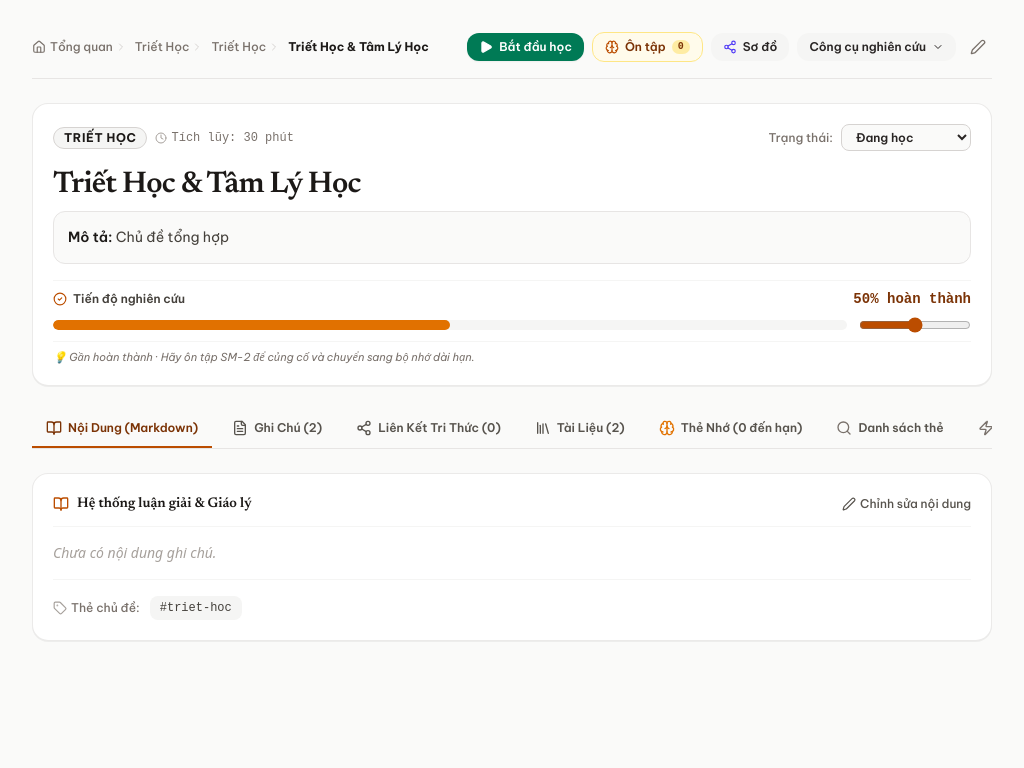
Test: Phase R3A.2: Note to Reader Deep-Link Wiring in Owners › 2. TopicDetail wiring › 2.1. clicking archive citation inside NoteReaderModal in TopicDetail opens UnifiedResearchReader with locator
The image size is (1024, 768).
Note: Switch to notes tab in TopicDetail
Click the button with test id "tab-btn-notes" at (277, 429), box x1=218 y1=410 x2=336 y2=448
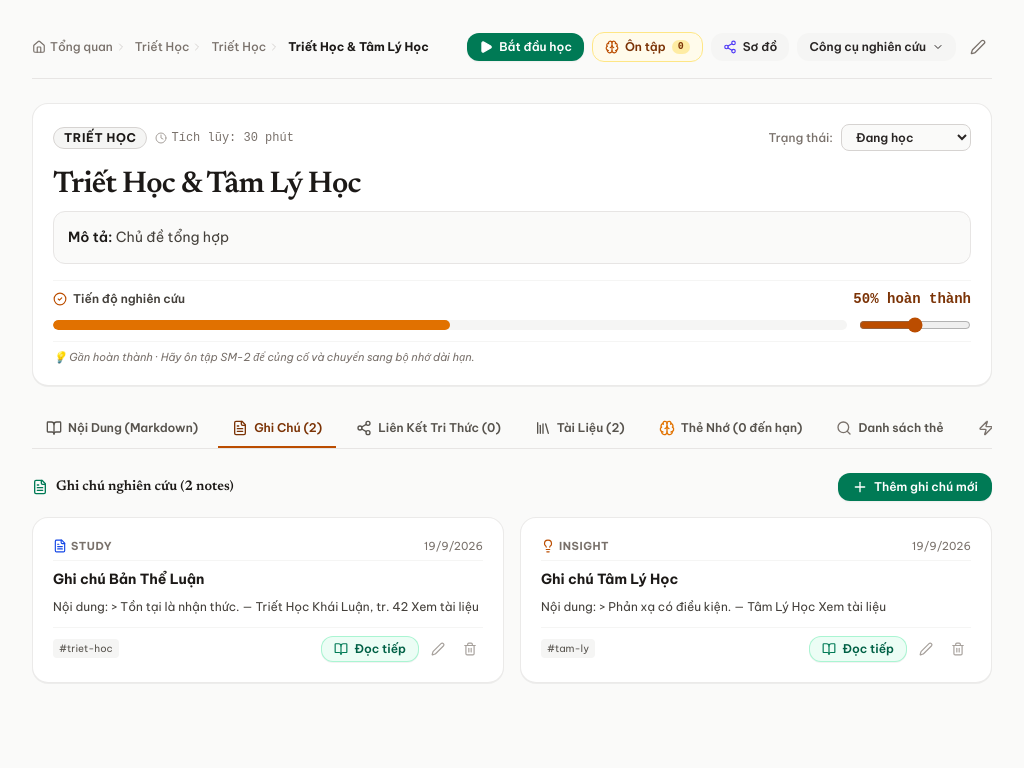
Note: Click "Đọc tiếp" on note 2
Click the button with aria-label "Đọc tiếp ghi chú Ghi chú Tâm Lý Học" at (858, 649), box x1=810 y1=636 x2=907 y2=662
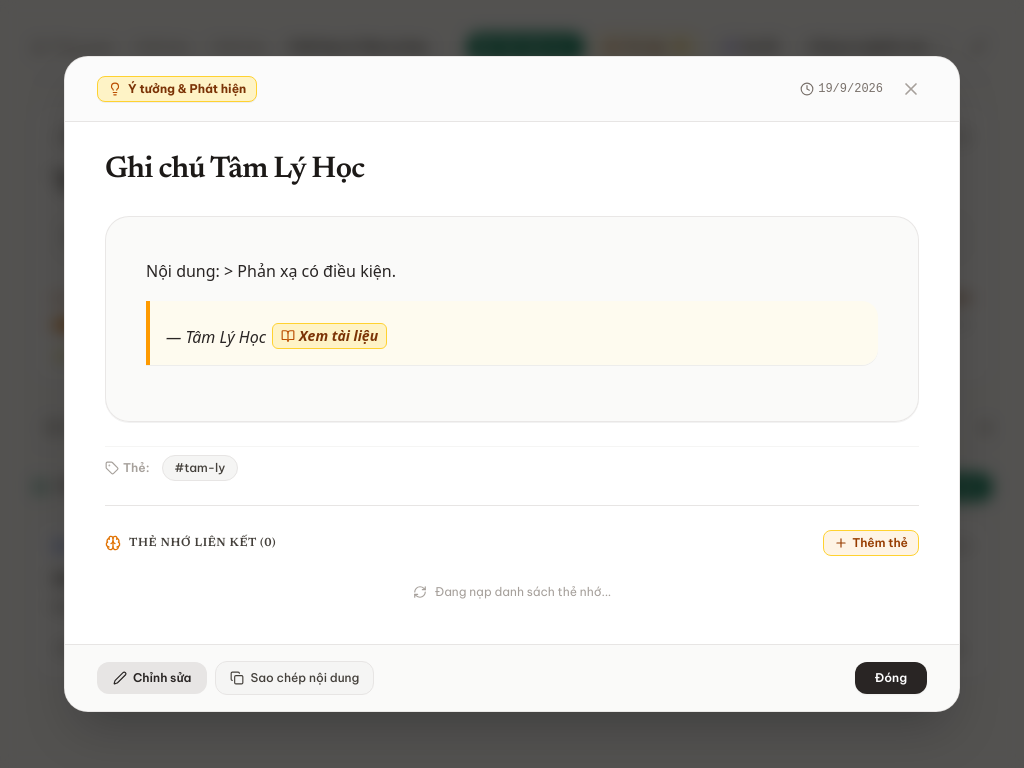
expect the dialog named "Chi tiết ghi chú" is shown: met
Note: Click the archive citation link
Click the link "Xem tài liệu" at (330, 336), box x1=272 y1=323 x2=387 y2=349
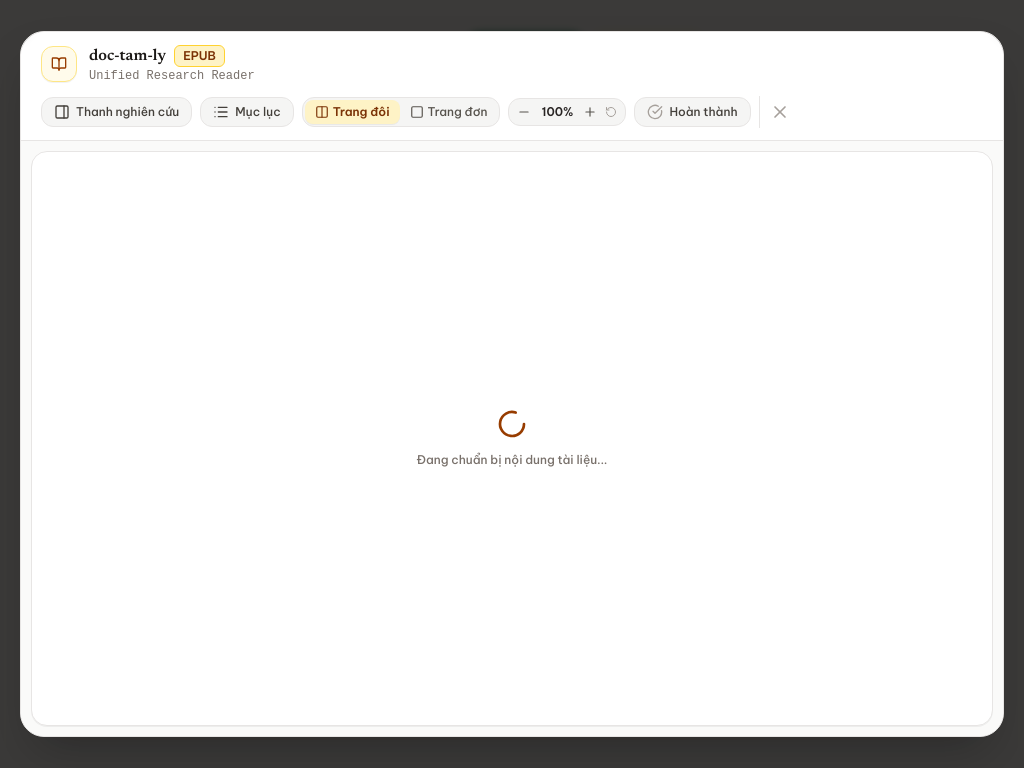
expect the dialog "doc-tam-ly" is shown: met
expect the heading "doc-tam-ly" is shown: met, box x1=89 y1=44 x2=166 y2=68
Note: Test closing reader
Click the button named "Đóng" at (780, 112), box x1=764 y1=96 x2=796 y2=128
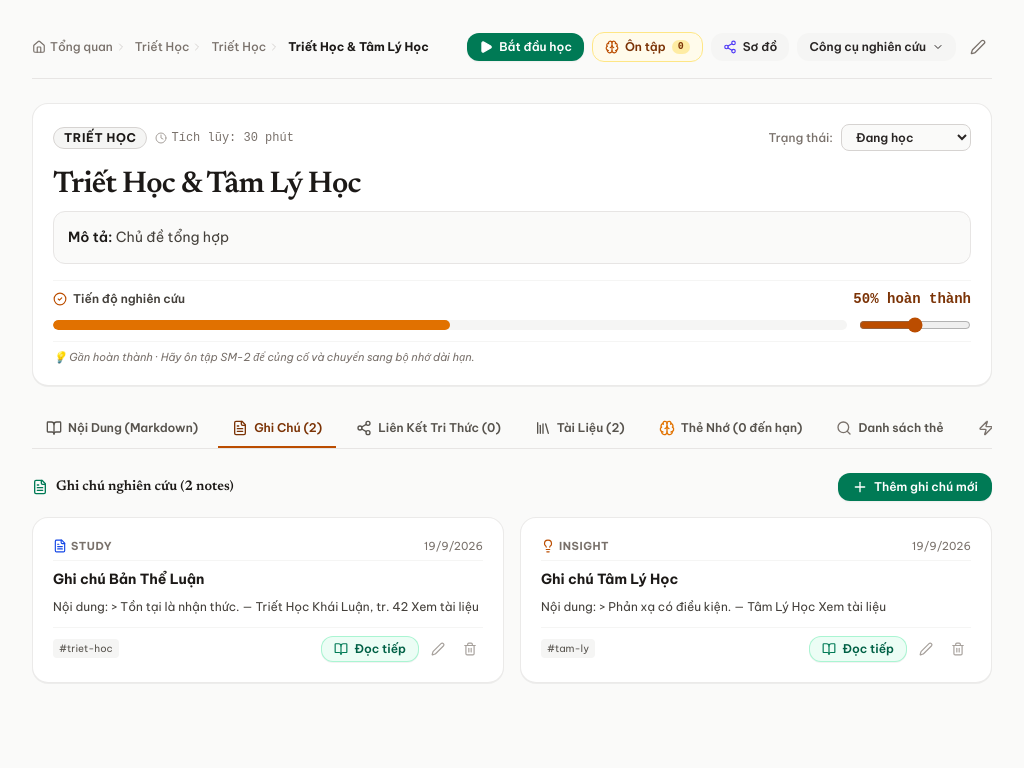
expect the heading "doc-tam-ly" is gone: met
